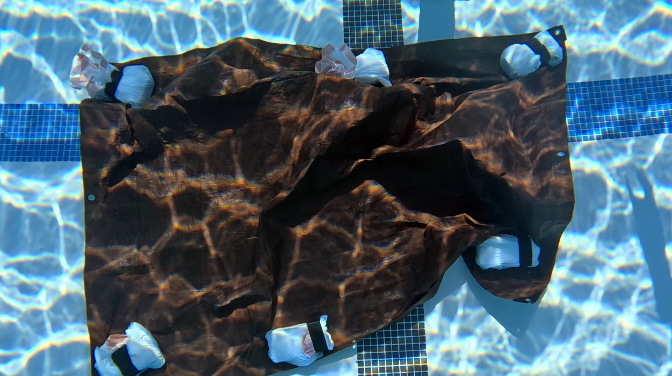pathmarker: (68, 26, 571, 375)
